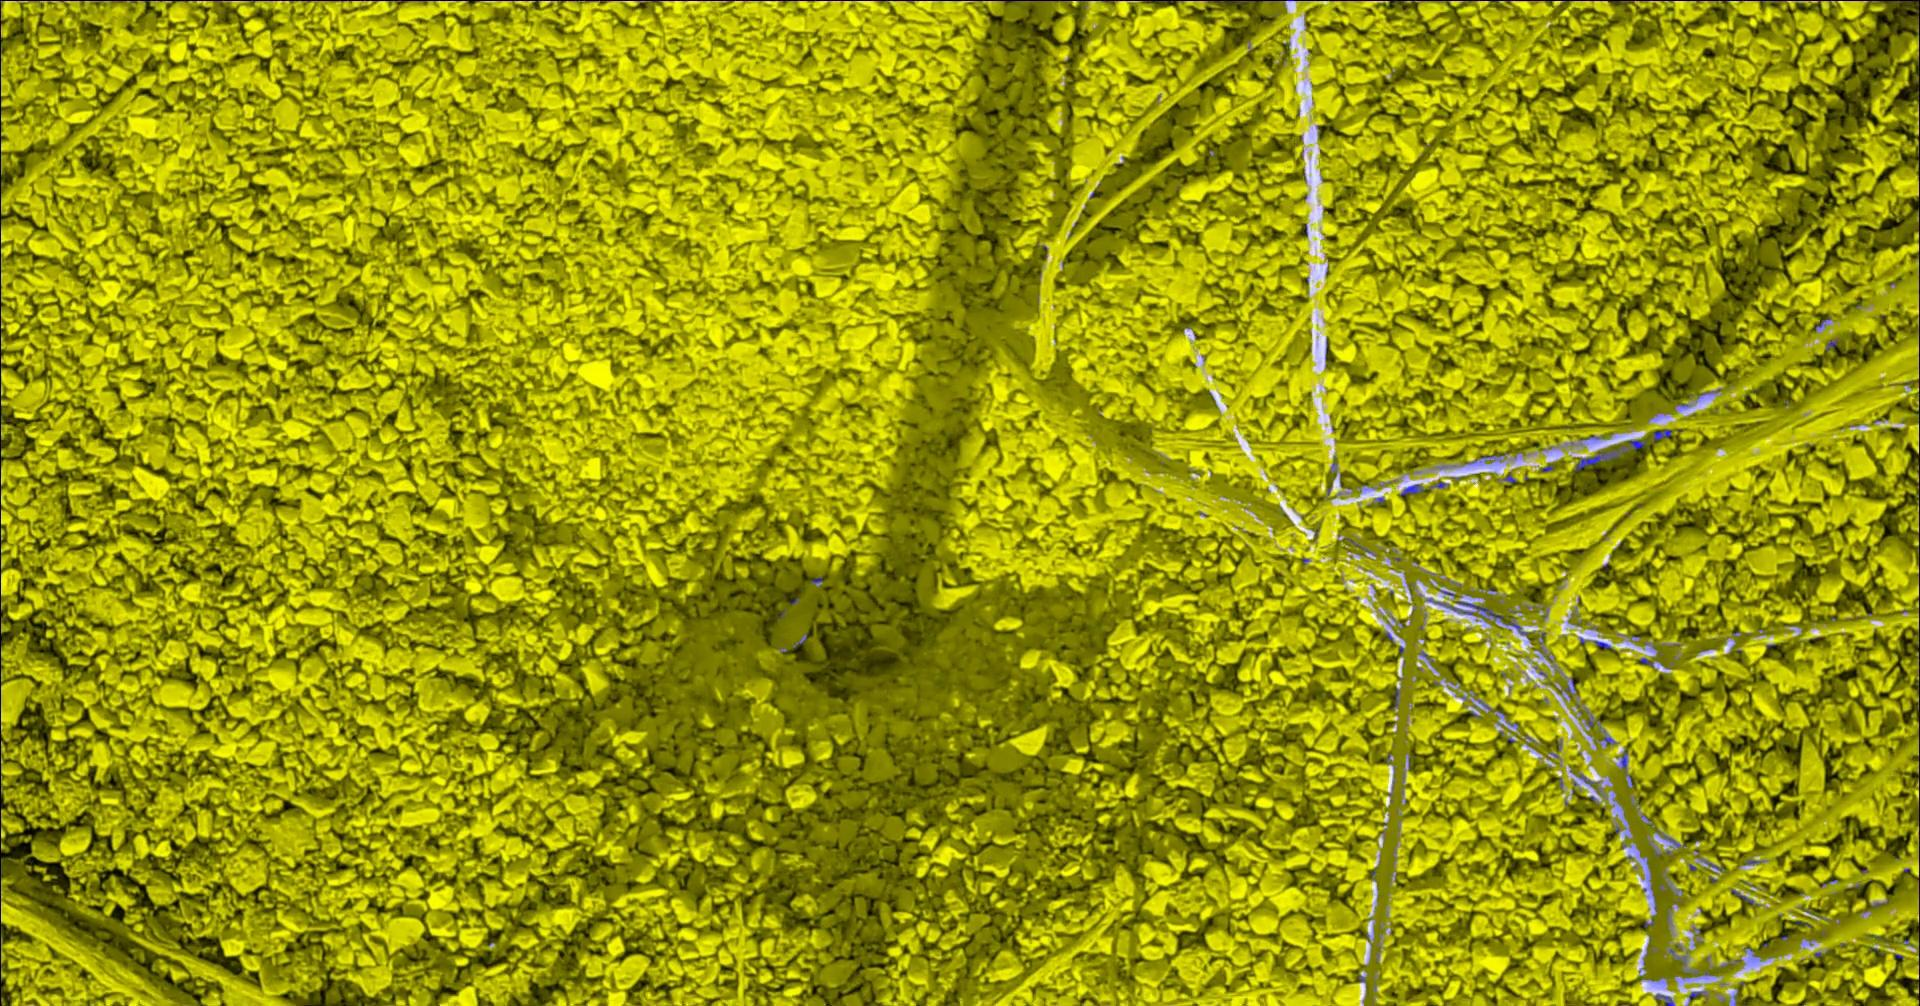ant: (1575, 448, 1624, 470), (1457, 601, 1503, 621), (1503, 611, 1531, 636), (1399, 484, 1423, 495), (1655, 993, 1672, 1005), (1653, 429, 1672, 439), (1628, 439, 1646, 448), (1208, 0, 1262, 1)
